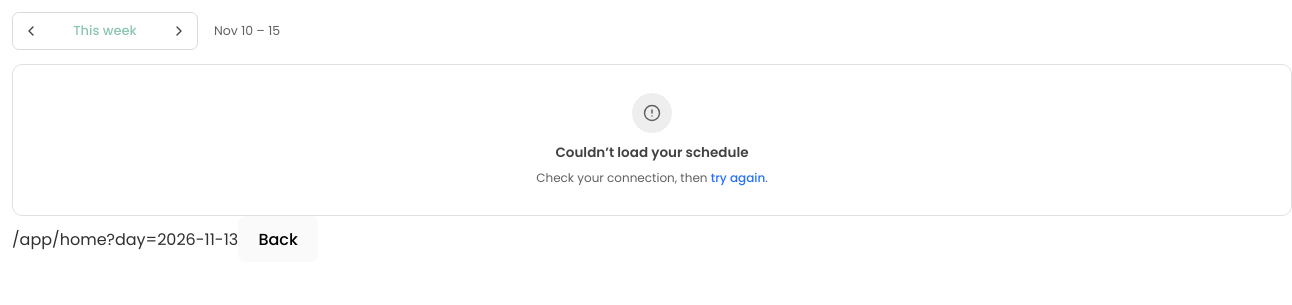
HomeSchedule › scrolls to ?day= once the week loads after Try again, and only then
This screenshot has width=1292, height=305.
Click the button "try again": point(738, 178) [711,169,765,187]
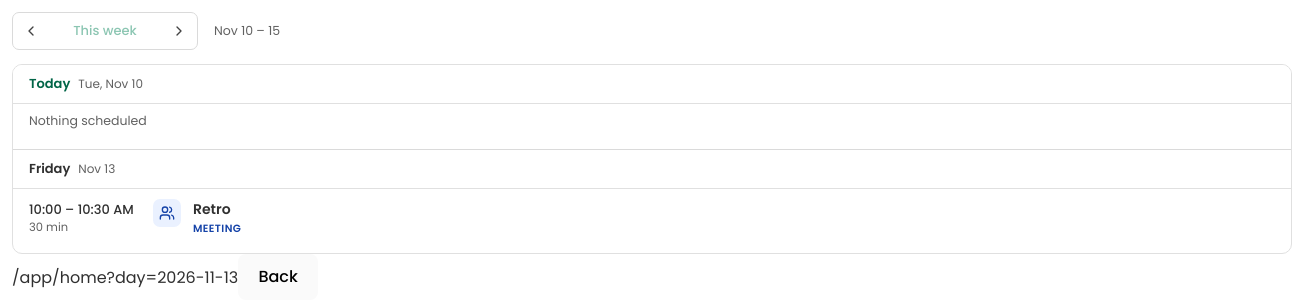
expect the text "Retro" is shown: met, box [193,200,231,219]
